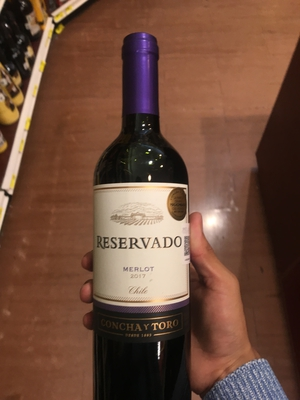reservado merlot: (92, 41, 199, 400)
